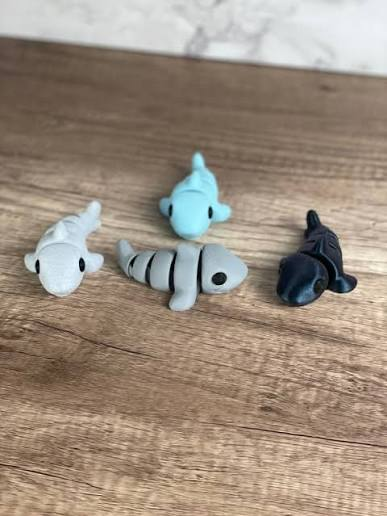3d print: (117, 240, 247, 310), (277, 210, 356, 305), (25, 201, 103, 296), (160, 153, 230, 238)
